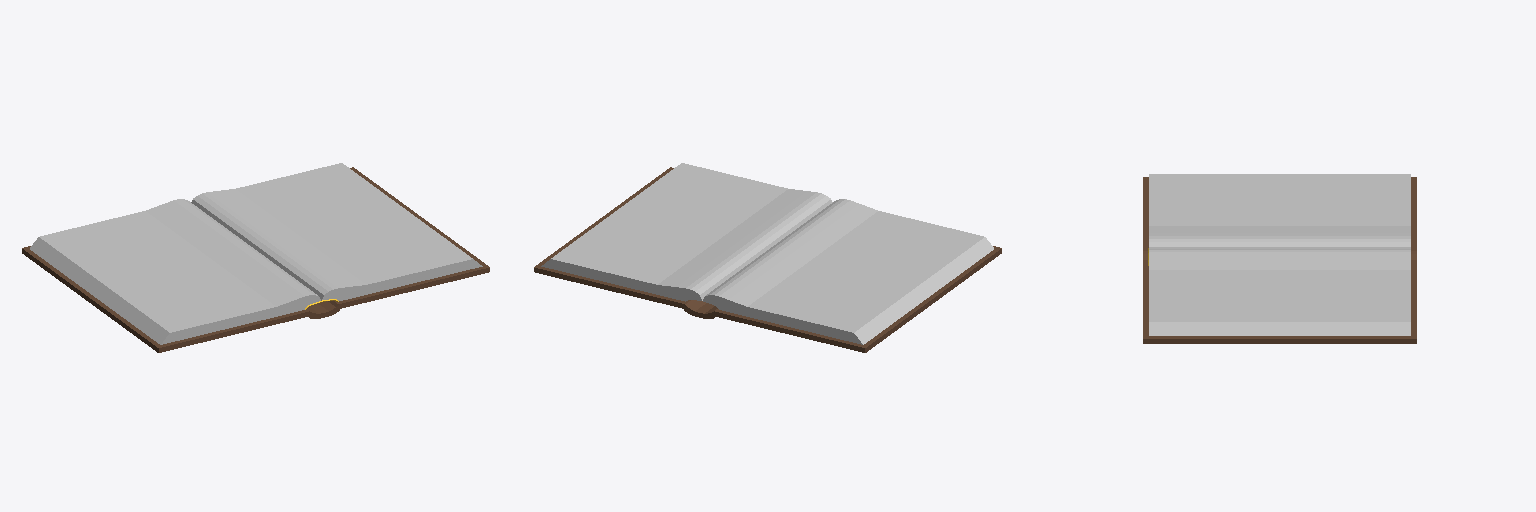
The model's file is book.obj.
3 renders of one model, left to right at view 1: azimuth 30°, elevation 25°; view 2: azimuth 150°, elevation 25°; view 3: azimuth 270°, elevation 25°, orthographic.
Visible parts, largest first — view 1: Cover_O; view 2: Cover_O; view 3: Cover_O.
Boxes of the visible parts, <box> form: Cover_O: <box>22,163,489,352</box>; Cover_O: <box>534,163,1001,352</box>; Cover_O: <box>1143,174,1416,343</box>.
Size of the model in its own units: 140 by 9.4 by 100.